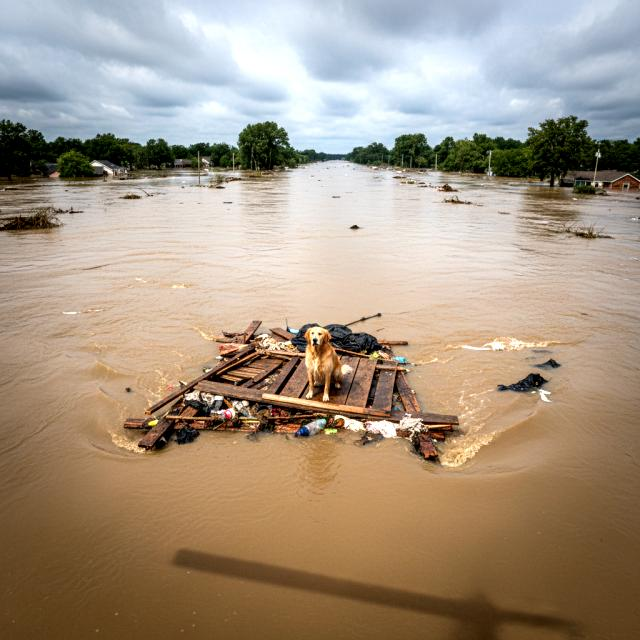dog: (293, 317, 357, 409)
